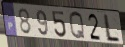2: (87, 13, 102, 42)
5: (51, 10, 67, 39)
8: (17, 8, 32, 36)
9: (35, 9, 49, 36)
L: (103, 14, 121, 44)
Q: (68, 11, 87, 41)
